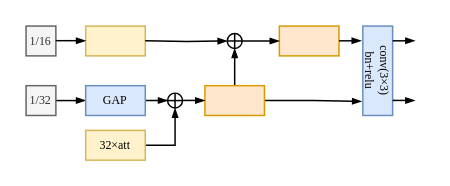
The diagram is 450 pixels wide and 186 high, and some of its shapes have lost their labels. Here are the shapes that lost their labels. From the top down, the centre of each, then its label:
At point 114,40: "16×att".
At point 308,40: "16×up".
At point 233,99: "32×up".
